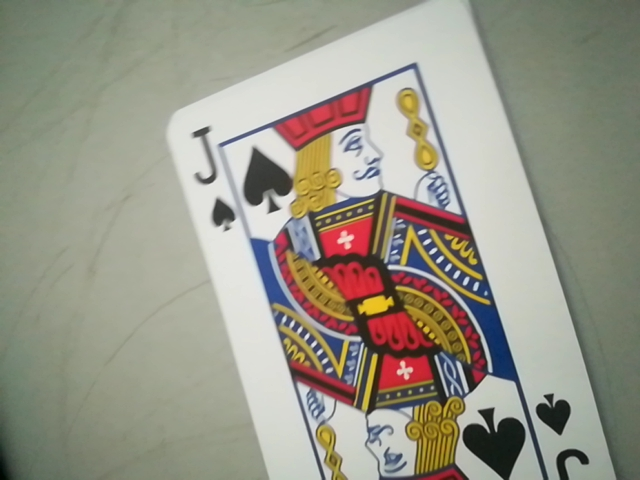ht j: (179, 127, 253, 235)
